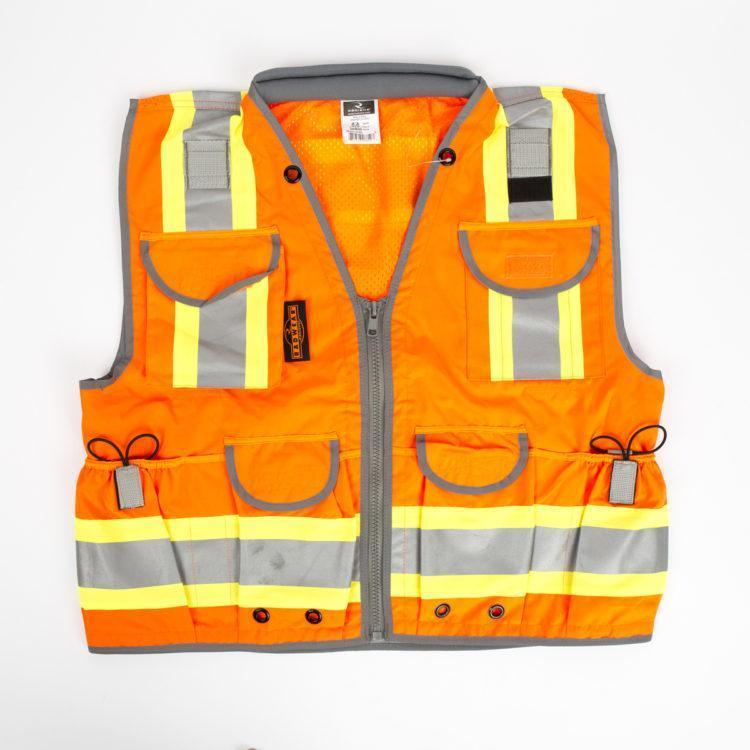vest: (68, 62, 671, 649)
